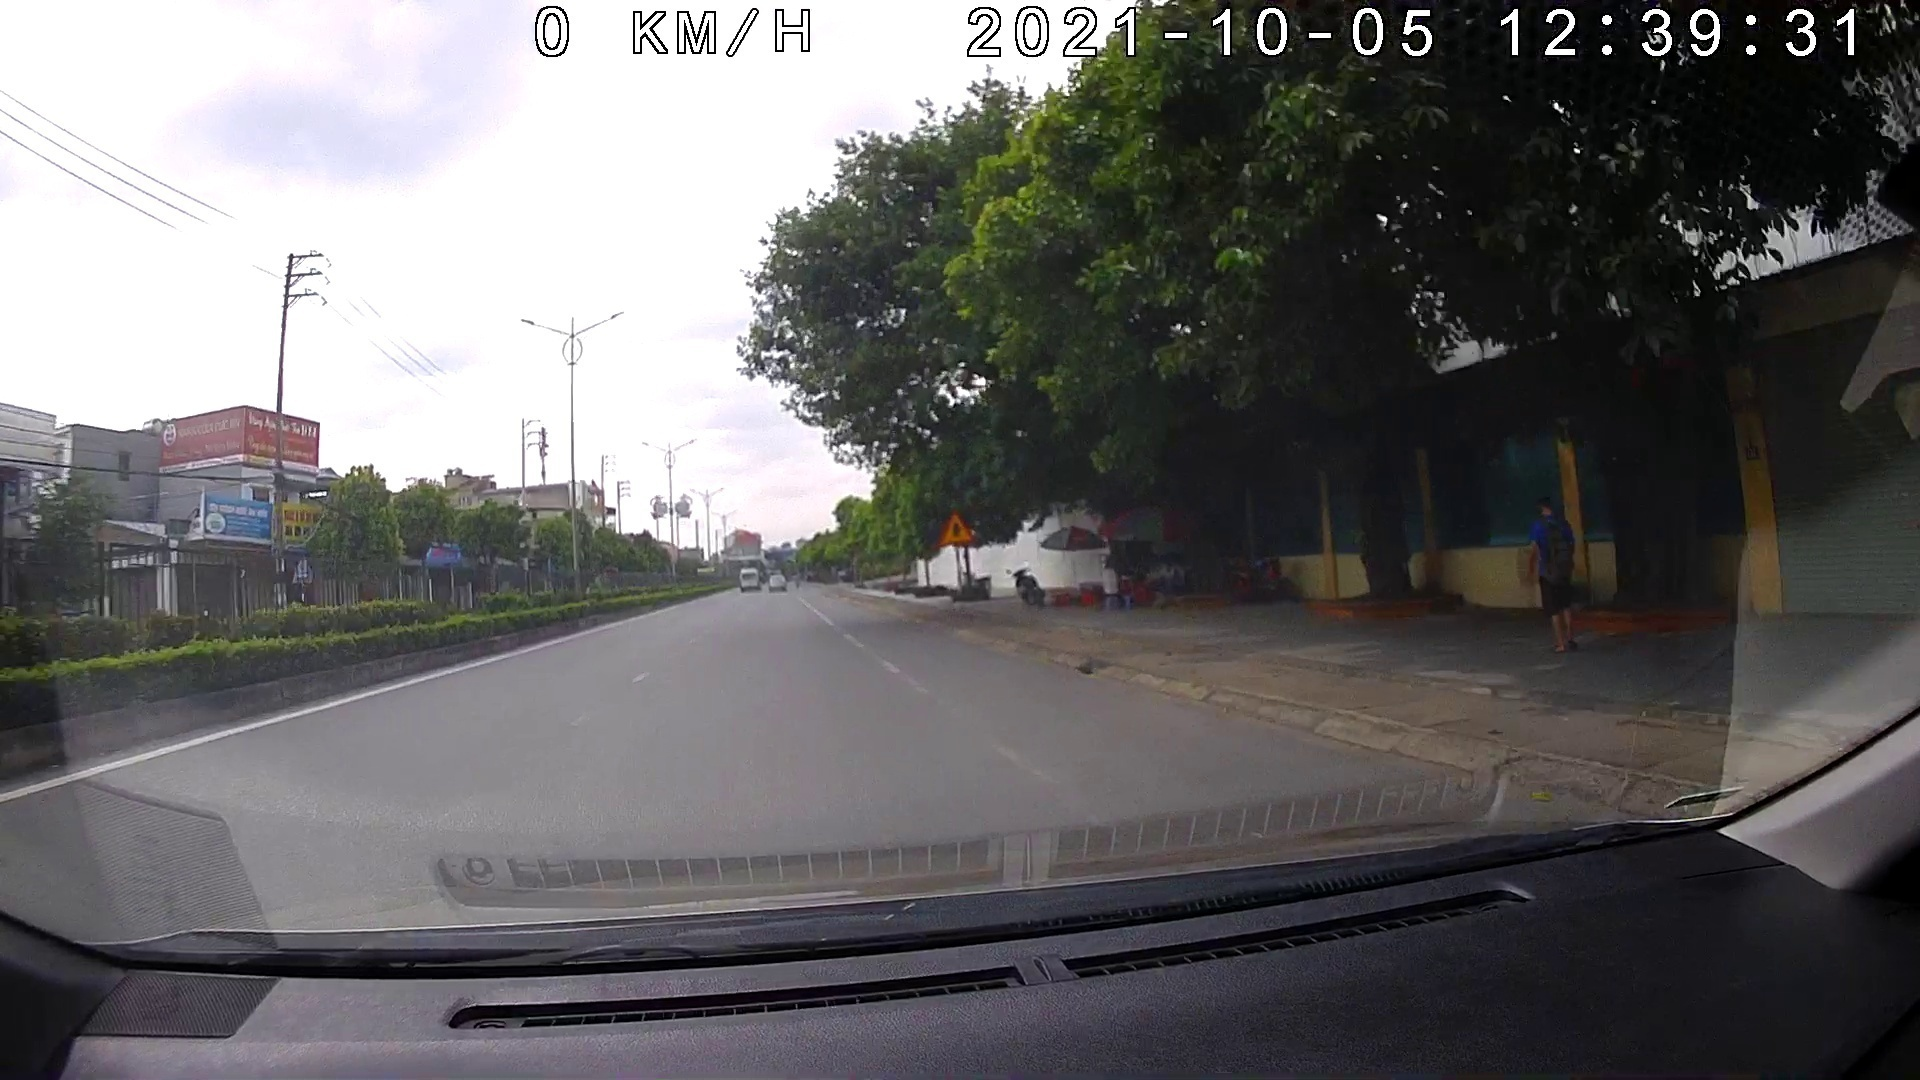Giao nhau voi duong khong uu tien: (939, 509, 971, 545)
